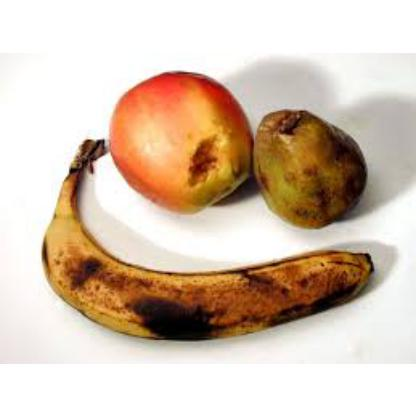damaged_apple: (106, 72, 248, 210), (249, 110, 369, 226)
